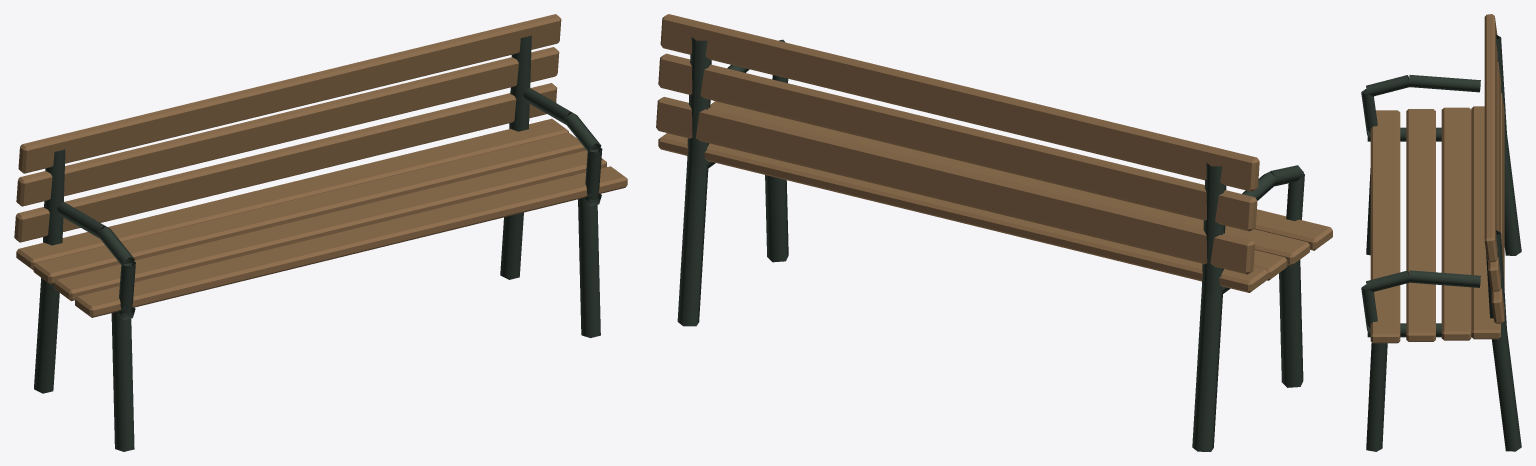
Rendered from bench.glb.
3 renders of one model, left to right at view 1: azimuth 30°, elevation 25°; view 2: azimuth 150°, elevation 25°; view 3: azimuth 270°, elevation 25°, orthographic. The views are drawn at different scales.
Visible parts, largest first — view 1: Cube.006, Cube.005, Cube.004, Cube, Cube.002, Cube.001, Cube.003, Cylinder.002, Cylinder.009, Cylinder, Cylinder.008, Cylinder.001 (+7 smaller); view 2: Cube.004, Cube.006, Cube.005, Cube.003, Cube.001, Cylinder.007, Cylinder, Cylinder.002, Cylinder.009, Cylinder.001, Cylinder.008, Cube (+1 smaller); view 3: Cube.002, Cube.001, Cube, Cube.003, Cube.006, Cylinder.007, Cylinder.009, Cylinder, Cube.004, Cube.005, Cylinder.011, Cylinder.004 (+9 smaller).
Boxes of the visible parts, left/top/right/bottom form: Cube.006: left=18, top=14, right=561, bottom=173; Cube.005: left=16, top=47, right=559, bottom=206; Cube.004: left=14, top=83, right=557, bottom=242; Cube: left=75, top=166, right=627, bottom=317; Cube.002: left=33, top=133, right=586, bottom=284; Cube.001: left=54, top=150, right=606, bottom=301; Cube.003: left=16, top=118, right=568, bottom=270; Cylinder.002: left=111, top=311, right=134, bottom=451; Cylinder.009: left=578, top=198, right=600, bottom=337; Cylinder: left=34, top=278, right=59, bottom=393; Cylinder.008: left=509, top=35, right=531, bottom=131; Cylinder.001: left=43, top=149, right=65, bottom=245; Cube.004: left=656, top=97, right=1254, bottom=274; Cube.006: left=660, top=14, right=1259, bottom=191; Cube.005: left=658, top=53, right=1257, bottom=231; Cube.003: left=658, top=133, right=1268, bottom=292; Cube.001: left=710, top=101, right=1309, bottom=265; Cylinder.007: left=677, top=163, right=708, bottom=326; Cylinder: left=1192, top=289, right=1222, bottom=451; Cylinder.002: left=1279, top=260, right=1303, bottom=387; Cylinder.009: left=765, top=175, right=788, bottom=262; Cylinder.001: left=1201, top=162, right=1226, bottom=293; Cylinder.008: left=687, top=37, right=711, bottom=167; Cube: left=1254, top=209, right=1332, bottom=250; Cube.002: left=1441, top=107, right=1471, bottom=340; Cube.001: left=1406, top=109, right=1435, bottom=341; Cube: left=1370, top=110, right=1400, bottom=343; Cube.003: left=1471, top=106, right=1500, bottom=339; Cube.006: left=1484, top=14, right=1497, bottom=262; Cylinder.007: left=1492, top=329, right=1521, bottom=451; Cylinder.009: left=1366, top=342, right=1387, bottom=451; Cylinder: left=1504, top=134, right=1521, bottom=255; Cube.004: left=1491, top=93, right=1504, bottom=323; Cube.005: left=1488, top=62, right=1500, bottom=291; Cylinder.011: left=1409, top=270, right=1480, bottom=287; Cylinder.004: left=1409, top=75, right=1480, bottom=92.
Size of the model in its own units: 1.8 by 0.8386 by 0.5416.
